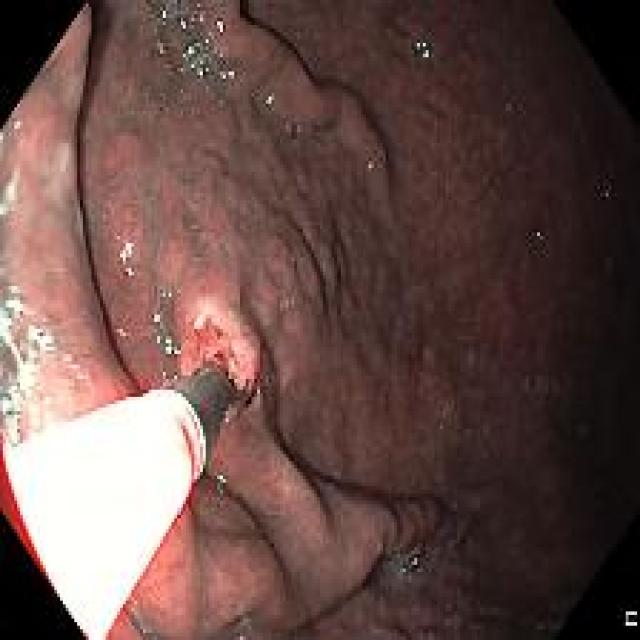bubbles: (147, 0, 220, 79), (397, 551, 430, 587), (288, 121, 305, 141)
color misalignment: (625, 611, 638, 626)
contrast: (592, 61, 637, 579)
instrument: (1, 357, 255, 638)
saturation: (1, 387, 207, 638)
specularity: (5, 316, 53, 394), (181, 38, 208, 77), (64, 355, 84, 381), (5, 295, 27, 313), (413, 38, 430, 61), (119, 241, 134, 266), (8, 414, 19, 445), (192, 311, 205, 331), (220, 69, 235, 82), (164, 336, 173, 355), (155, 38, 165, 55), (11, 119, 23, 131), (215, 20, 225, 34), (3, 397, 12, 412), (125, 266, 134, 280), (152, 313, 162, 325), (7, 284, 20, 293), (216, 475, 226, 486), (44, 395, 53, 407), (178, 17, 186, 30), (265, 93, 273, 106), (118, 327, 126, 339), (535, 230, 546, 238), (160, 291, 172, 298), (160, 11, 168, 21), (178, 66, 186, 75), (155, 335, 162, 344), (174, 343, 179, 355), (410, 559, 418, 566), (190, 13, 193, 30), (400, 567, 407, 573)
